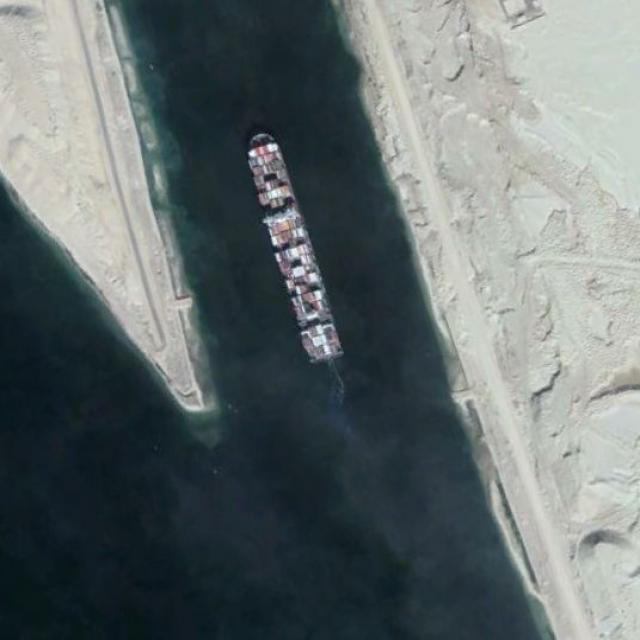ship: (245, 132, 344, 362)
